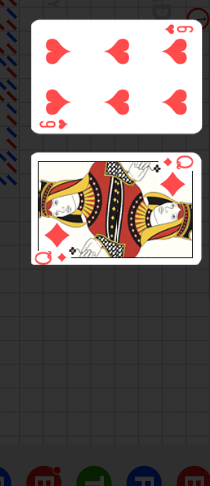6H: (164, 23, 195, 35)
QD: (31, 208, 78, 252), (152, 141, 198, 185)
